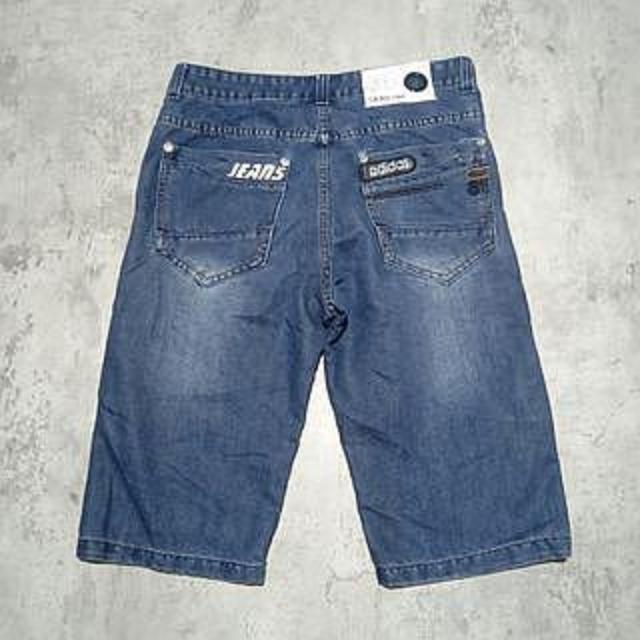TROUSER: (69, 45, 593, 596)
